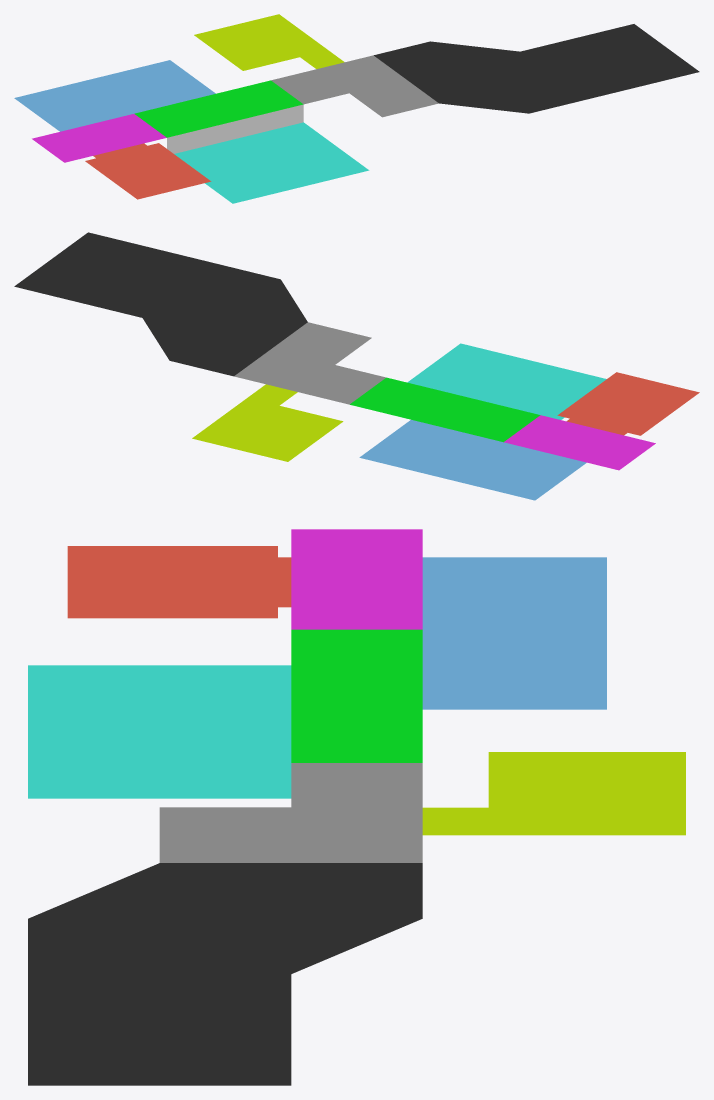
File: MallFloorPlanMesh.fbx
3 renders of one model, top to bottom at view 1: azimuth 30°, elevation 25°; view 2: azimuth 150°, elevation 25°; view 3: azimuth 270°, elevation 25°, orthographic. The views are drawn at different scales.
Parts seen in each view (by area): view 1: Floorplan.003; view 2: Floorplan.003; view 3: Floorplan.003.
Part boxes in pixels (x1=…): Floorplan.003: x1=14, y1=14, x2=699, y2=203; Floorplan.003: x1=14, y1=232, x2=699, y2=500; Floorplan.003: x1=28, y1=529, x2=685, y2=1085.
Bounding box in the file's own units: 10000 × 300 × 5000.
